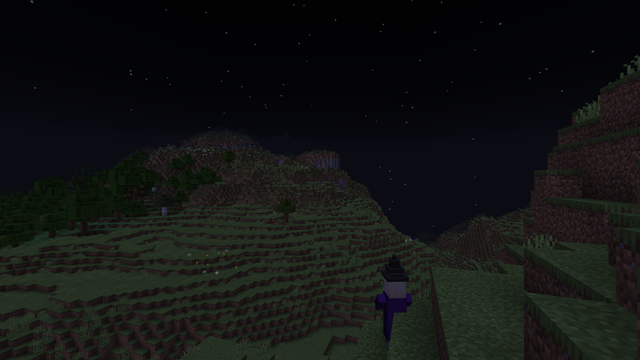sorcieres: (382, 270, 405, 349)
